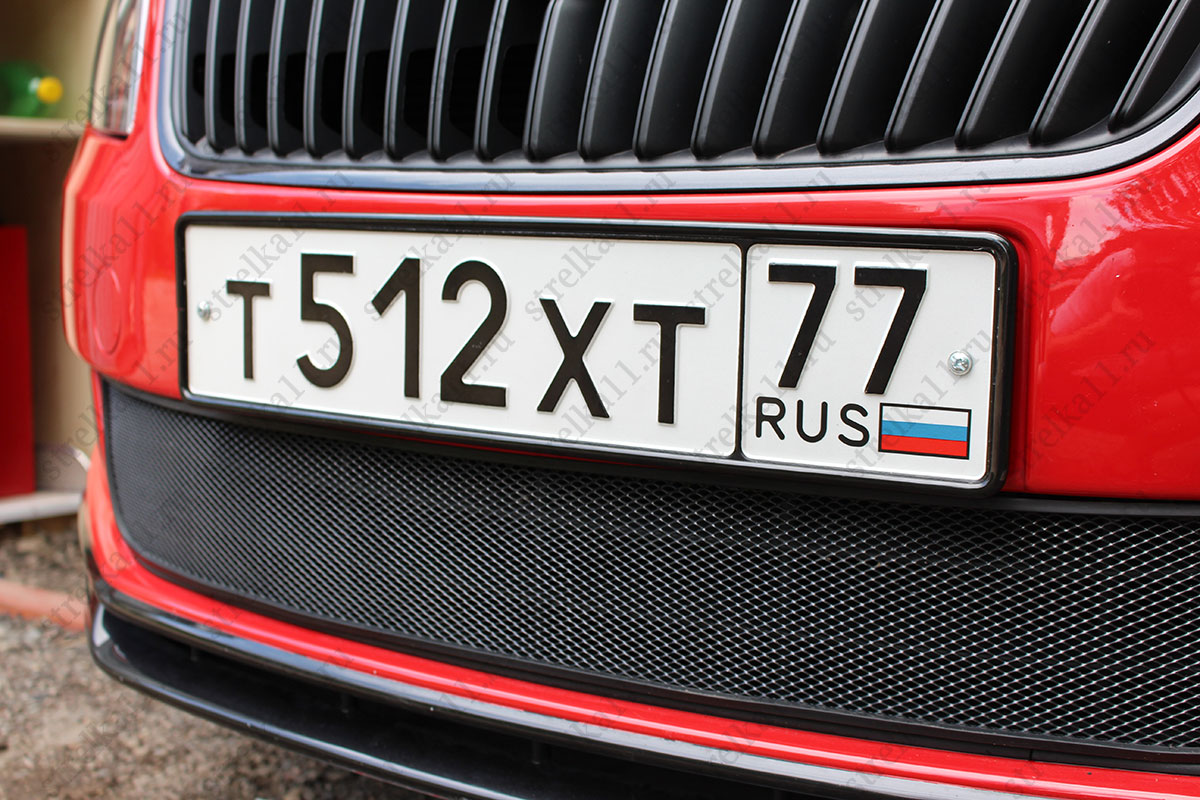number_plate: (174, 206, 1013, 470)
